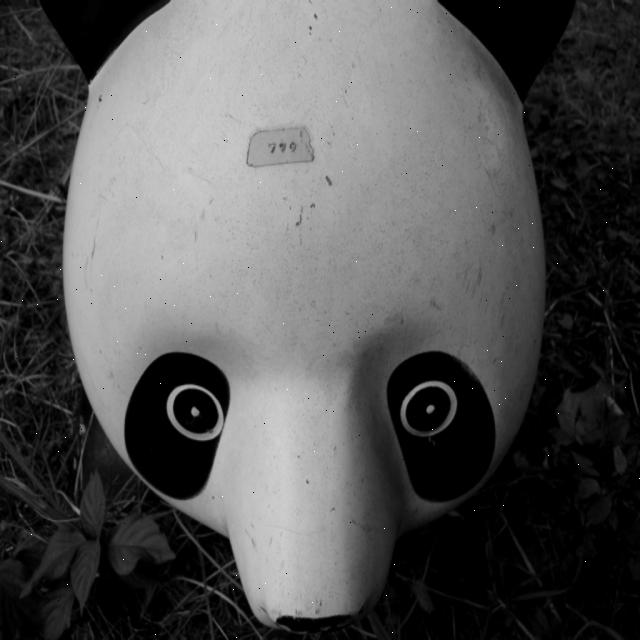panda: (59, 0, 548, 639)
